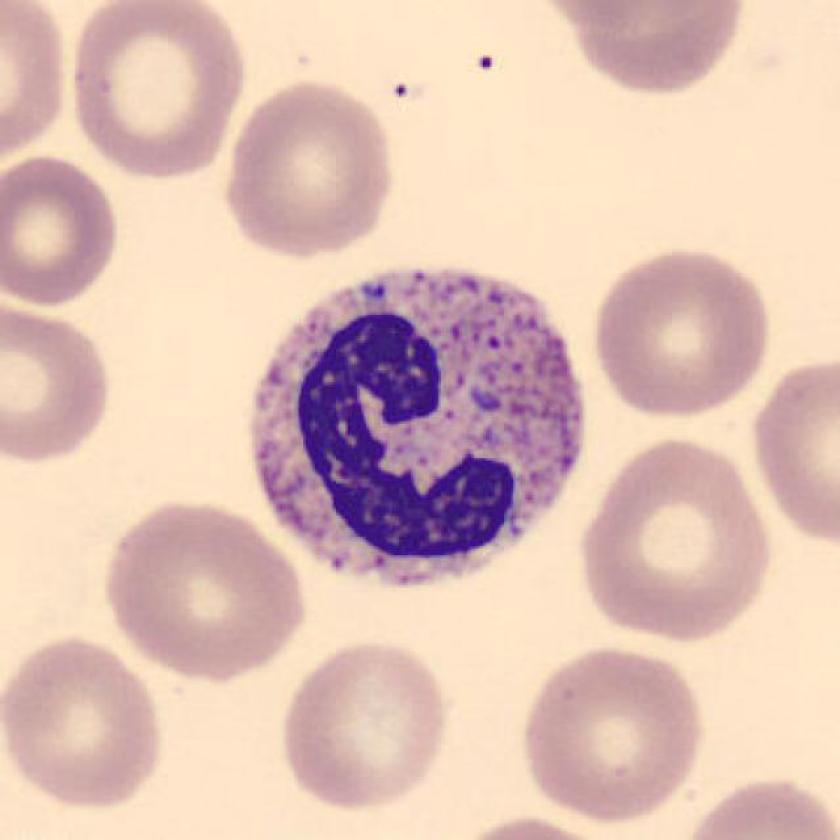neutrophil: (250, 266, 584, 581)
